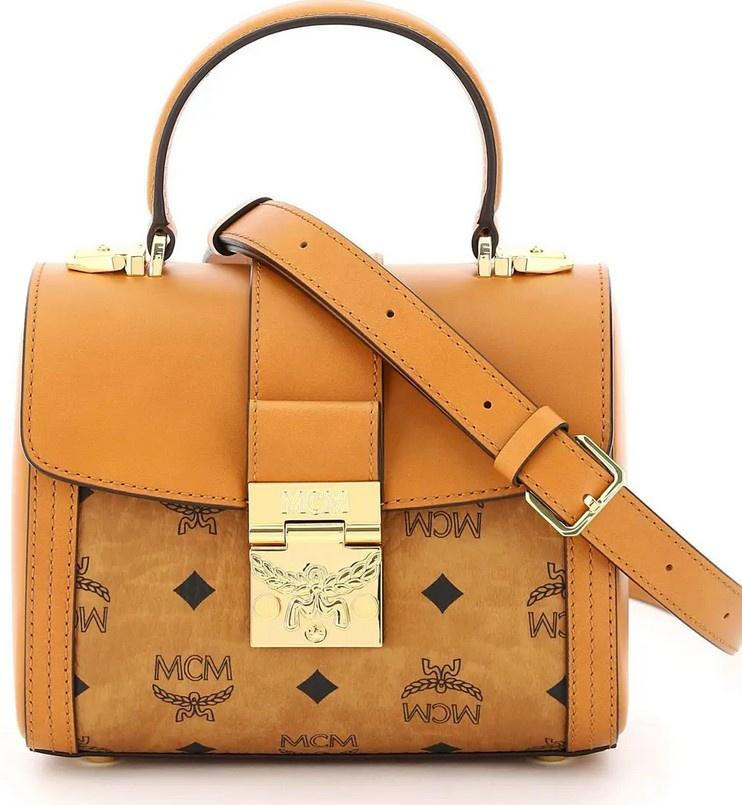MCM: (28, 268, 623, 761)
